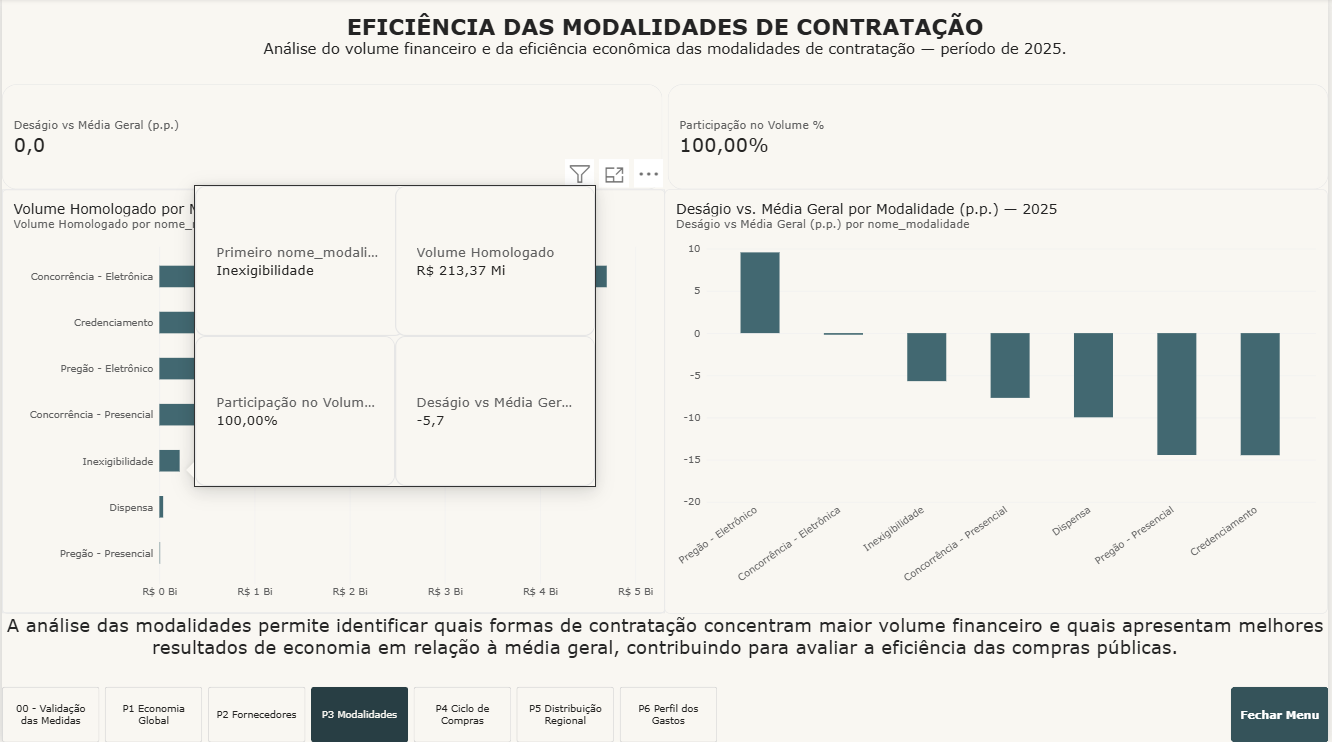

The page's visual inventory and layout, read from the dashboard file:
{"tool":"powerbi","page":{"name":"P3 Modalidades","canvas":[1920,1080],"ordinal":3},"visuals":[{"type":"cardVisual","fields":{"Data":["Medidas.Deságio vs Média Geral (p.p.)","Medidas.Participação no Volume %"]},"box":[0,124,1920,152],"z":0},{"type":"textbox","box":[0,22,1920,118],"z":1000},{"type":"barChart","title":"Volume Homologado por Modalidade","fields":{"Category":["dim_modalidade.nome_modalidade"],"Y":["Medidas.Volume Homologado"]},"box":[0,276,960,614],"z":2000},{"type":"clusteredColumnChart","title":"Deságio vs. Média Geral por Modalidade (p.p.) — 2025","fields":{"Category":["dim_modalidade.nome_modalidade"],"Y":["Medidas.Deságio vs Média Geral (p.p.)"]},"box":[960,276,960,614],"z":3000},{"type":"textbox","box":[0,890,1920,112],"z":4000},{"type":"pageNavigator","box":[0,998,1038,82],"z":5000},{"type":"actionButton","box":[1778,998,142,82],"z":6000},{"type":"actionButton","title":"Fechar Menu Btn","box":[1778,998,142,82],"z":7000}]}

Visuals, with their boxes in screenshot pixels (x1, y1, x2, y2), scaled from the page's 1920x1080 canvas onto the 1332x742 screenshot:
cardVisual - Medidas.Deságio vs Média Geral (p.p.) x Medidas.Participação no Volume %: (0, 85, 1331, 190)
textbox: (0, 15, 1331, 96)
"Volume Homologado por Modalidade" barChart: (0, 190, 666, 611)
"Deságio vs. Média Geral por Modalidade (p.p.) — 2025" clusteredColumnChart: (666, 190, 1331, 611)
textbox: (0, 611, 1331, 688)
pageNavigator: (0, 686, 720, 741)
actionButton: (1233, 686, 1331, 741)
"Fechar Menu Btn" actionButton: (1233, 686, 1331, 741)
